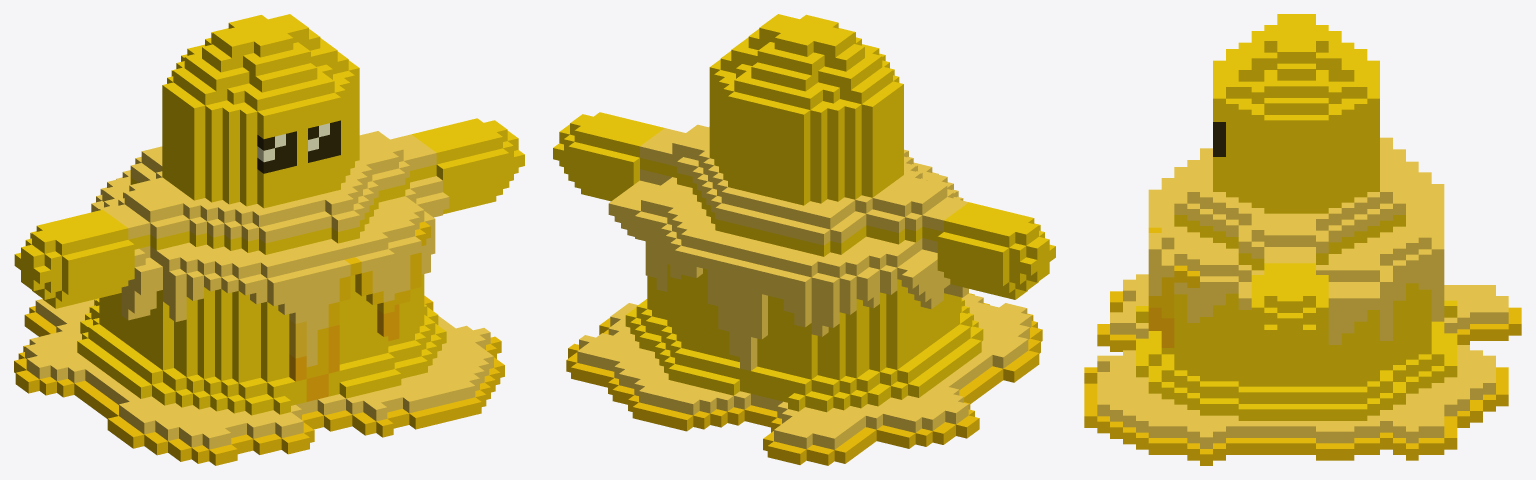
File: Grasa_saturada.obj
3 renders of one model, left to right at view 1: azimuth 30°, elevation 25°; view 2: azimuth 150°, elevation 25°; view 3: azimuth 270°, elevation 25°, orthographic. The views are drawn at different scales.
Bounding box in the file's own units: 4.4 × 2.9 × 3.4.
1 material, 1 textured.
